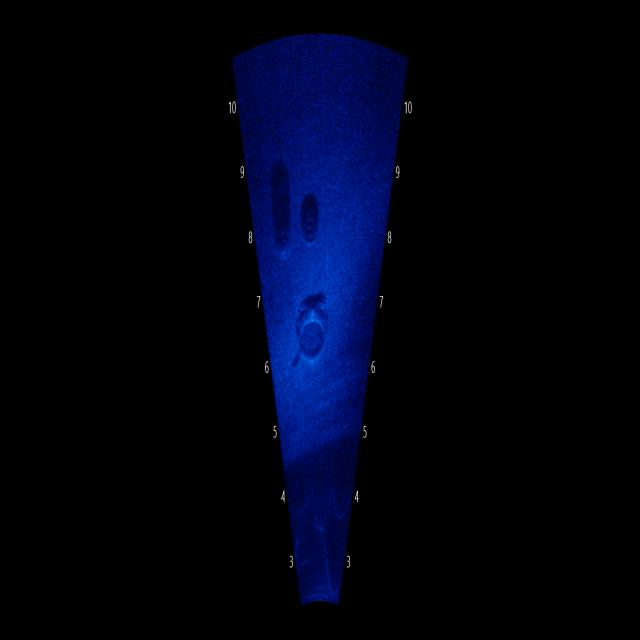circle: (288, 278, 343, 394), (294, 182, 341, 266), (262, 206, 301, 275)
